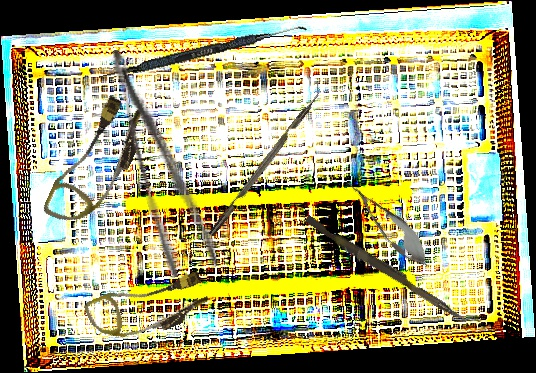Cannula: (41, 89, 153, 237), (82, 258, 214, 356)
Chopper: (201, 81, 328, 237)
Dressing Forceps: (107, 38, 220, 280)
Micro Scissor: (335, 169, 440, 276)
Pusher: (302, 214, 472, 325)
Spatula Surgical: (98, 18, 307, 86)
